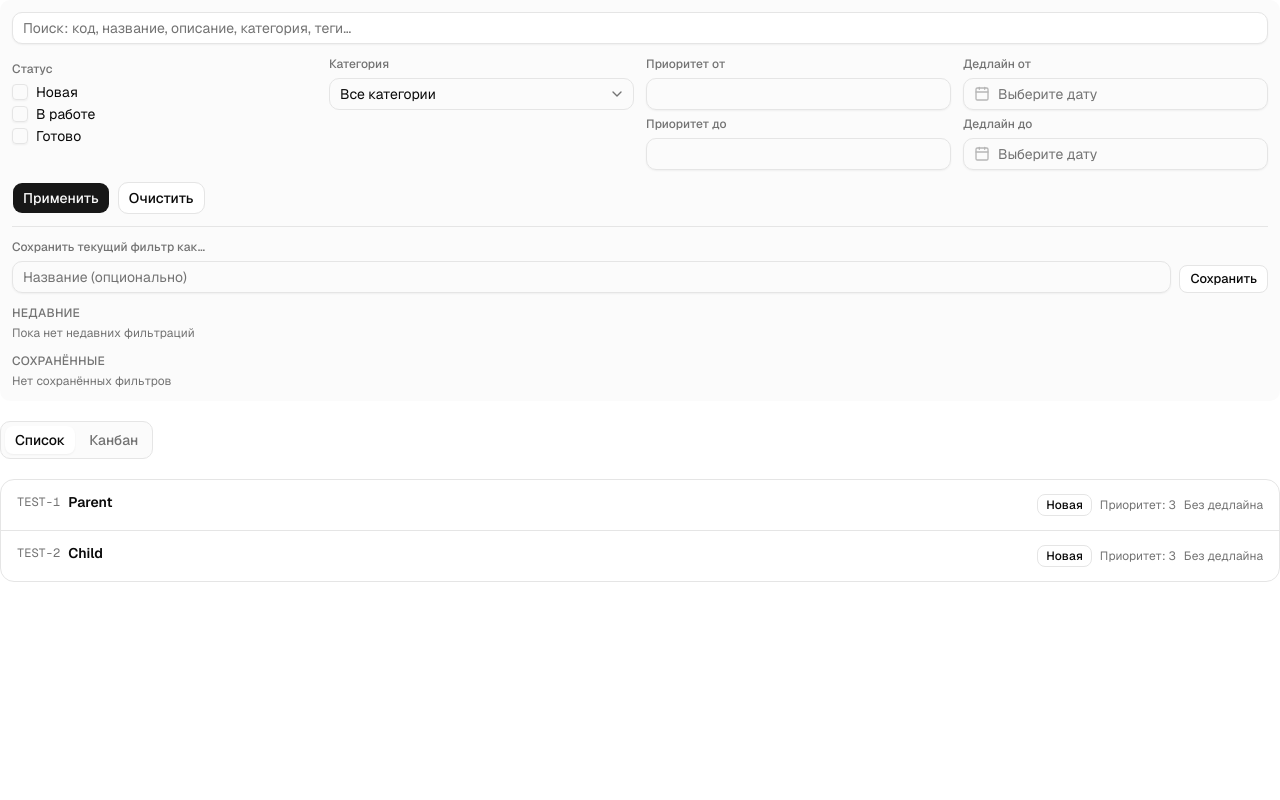
Test: TaskList › shows the resolved parent task code in the detail dialog
Step 1. Click the button with test id "task-row" → coordinates (39, 553), box [1, 531, 1279, 581]
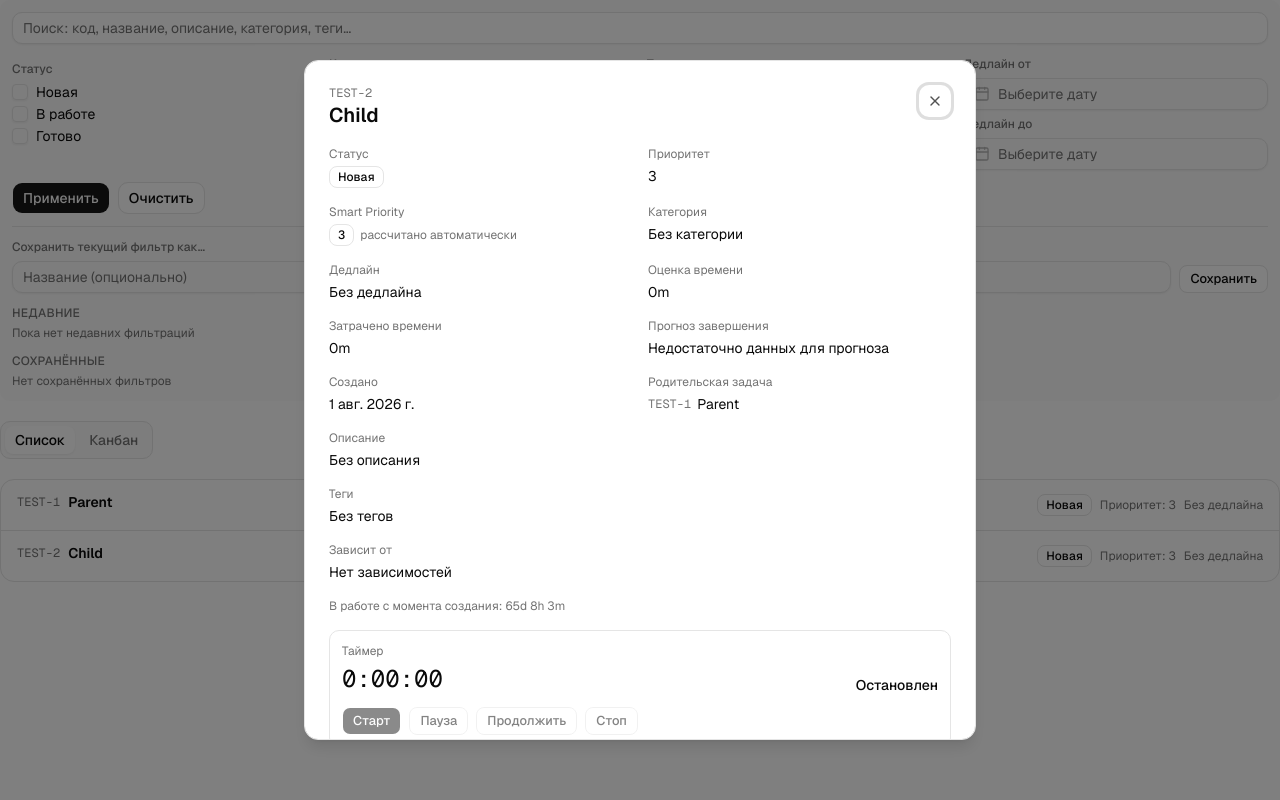
Now the element with test id "task-detail-parent" shows "TEST-1", box [648, 396, 691, 412]
